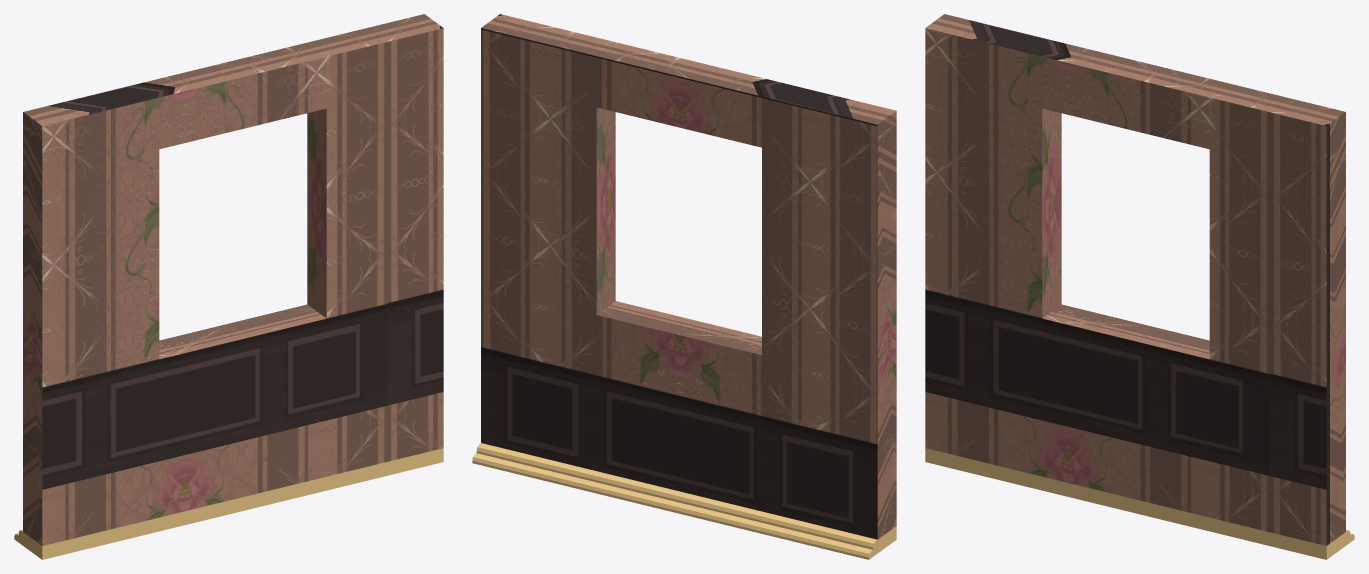
Rendered from WindowWall.fbx.
The picture shows the model from 3 angles, left to right: view 1: azimuth 30°, elevation 25°; view 2: azimuth 150°, elevation 25°; view 3: azimuth 330°, elevation 25°; orthographic projection.
Visible parts, largest first — view 1: WindowWall, WallTrim; view 2: WindowWall, WallTrim; view 3: WindowWall, WallTrim.
Part boxes in pixels (x1,y1,x2,y2): WindowWall: [23, 14, 443, 545]; WallTrim: [14, 448, 443, 559]; WindowWall: [481, 14, 896, 539]; WallTrim: [472, 443, 896, 559]; WindowWall: [925, 14, 1345, 545]; WallTrim: [925, 448, 1354, 559].
Bounding box in the file's own units: 600 × 620 × 72.96.
